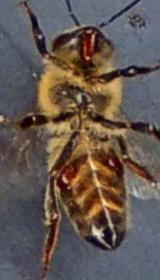varroa_mite: (50, 154, 80, 194)
